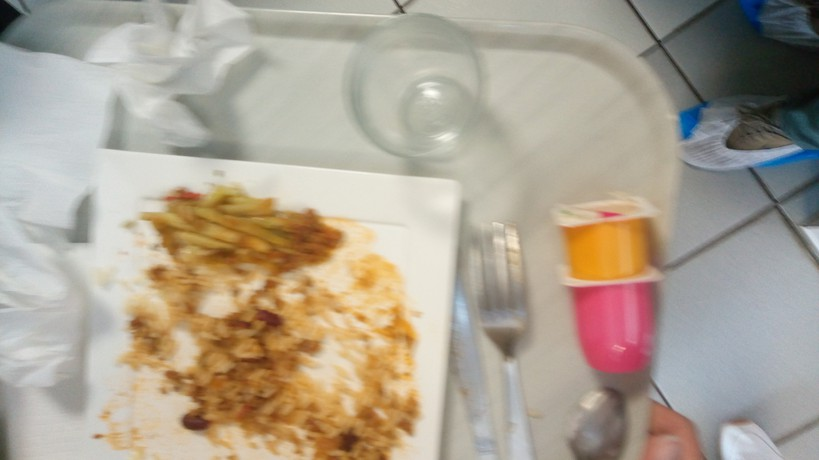cup: (347, 1, 487, 169)
cutlery: (443, 218, 538, 460), (561, 384, 636, 460)
orga: (154, 300, 413, 450), (143, 182, 340, 292)
trash: (93, 5, 281, 132), (564, 199, 668, 381)
